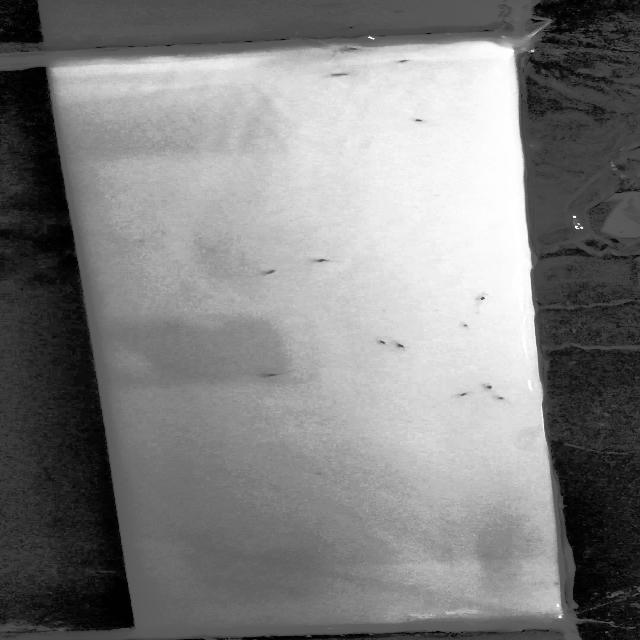shrimp: (256, 263, 284, 286), (316, 69, 360, 80), (455, 320, 484, 336), (393, 338, 415, 356), (484, 392, 517, 404), (309, 255, 338, 268), (258, 368, 286, 381), (404, 114, 431, 127), (453, 386, 475, 400), (472, 288, 488, 306), (373, 336, 397, 346), (392, 56, 414, 66), (478, 382, 498, 390)
